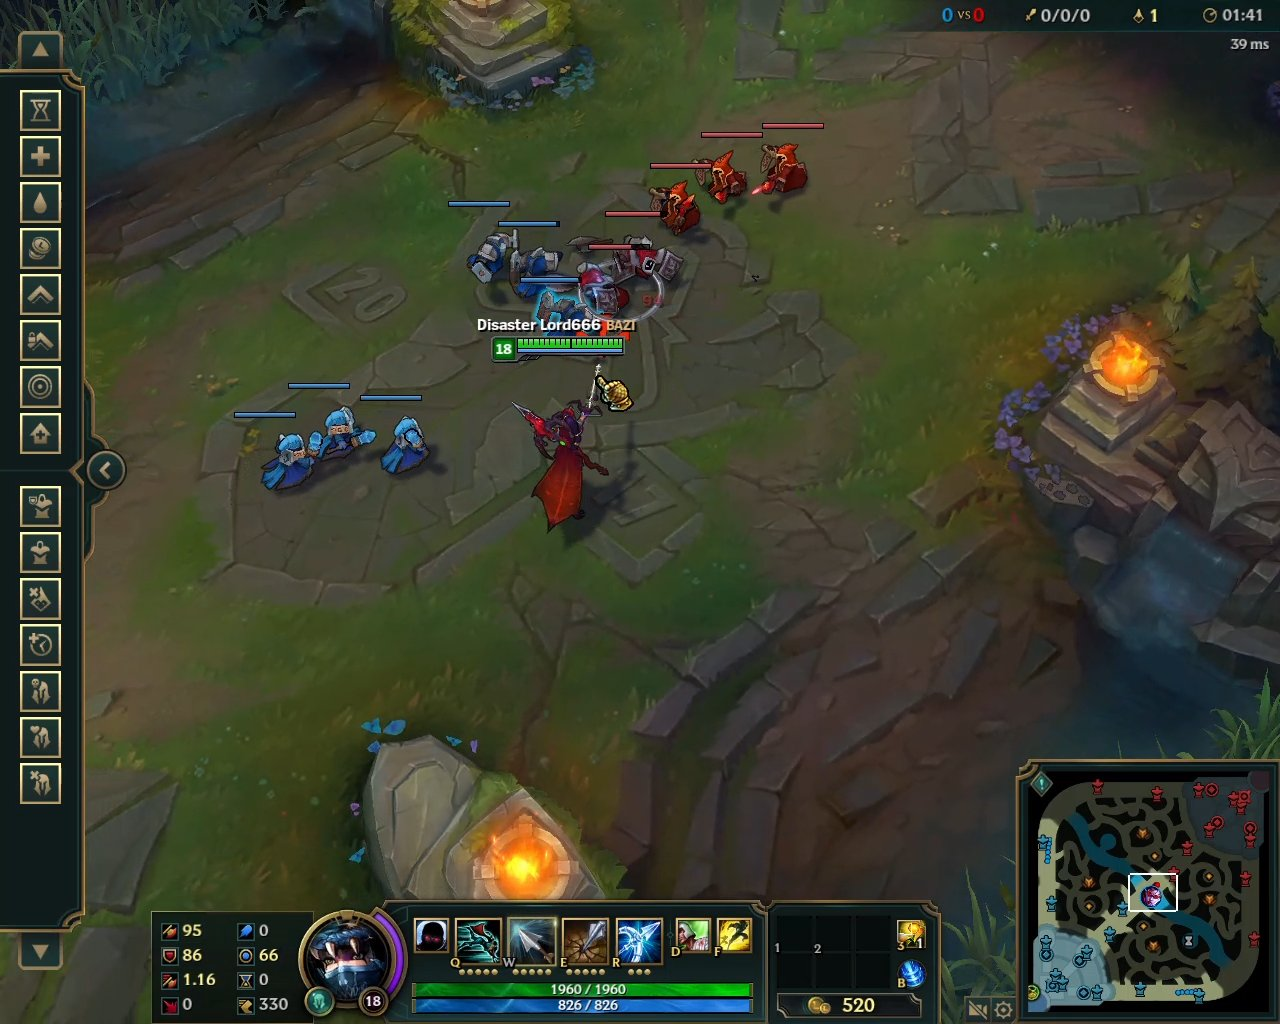EnemyMinion: (604, 212, 686, 285), (755, 121, 825, 201), (644, 162, 714, 238), (692, 132, 762, 208)
Vayne: (509, 397, 605, 533)
